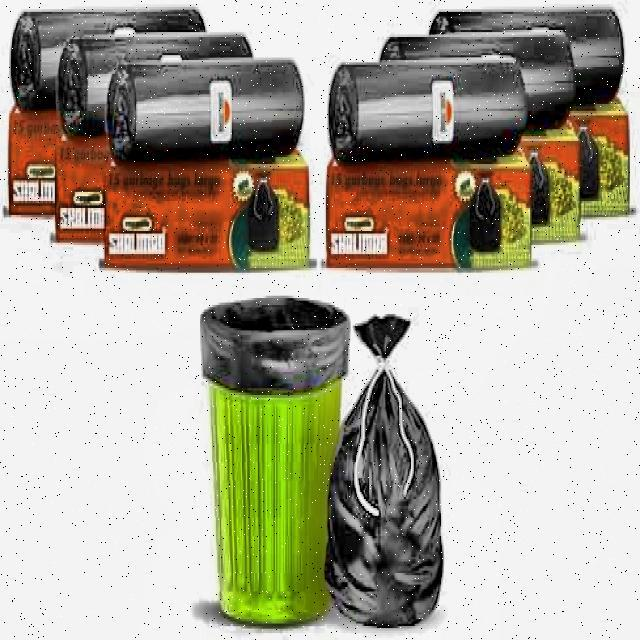Trashbag: (321, 313, 446, 640)
